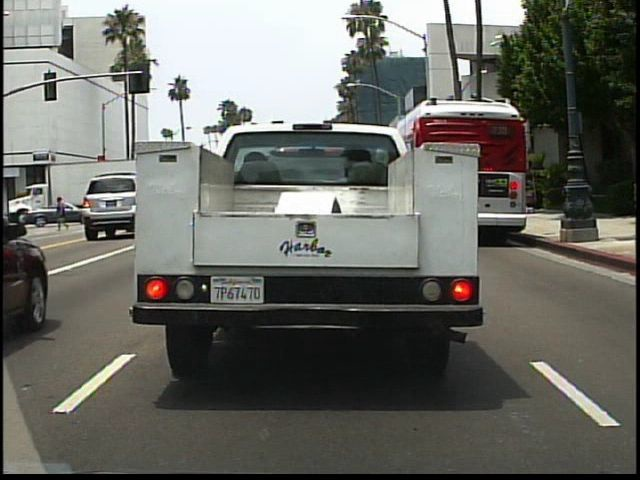person: (54, 193, 75, 236), (20, 196, 39, 231)
